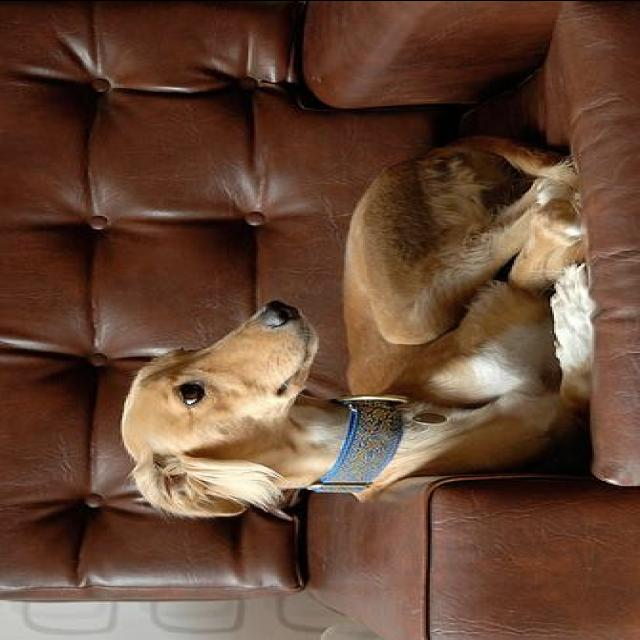saluki: (116, 132, 596, 518)
